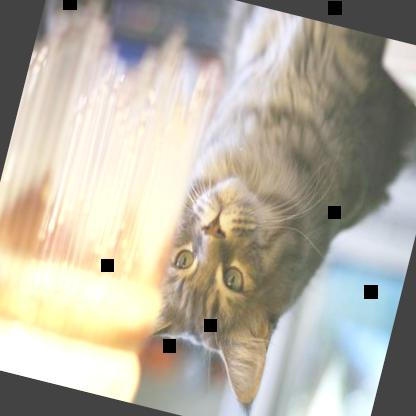cat: (136, 0, 415, 415)
